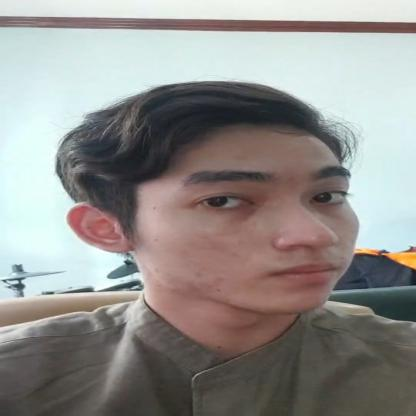Palm: (33, 66, 398, 340)
